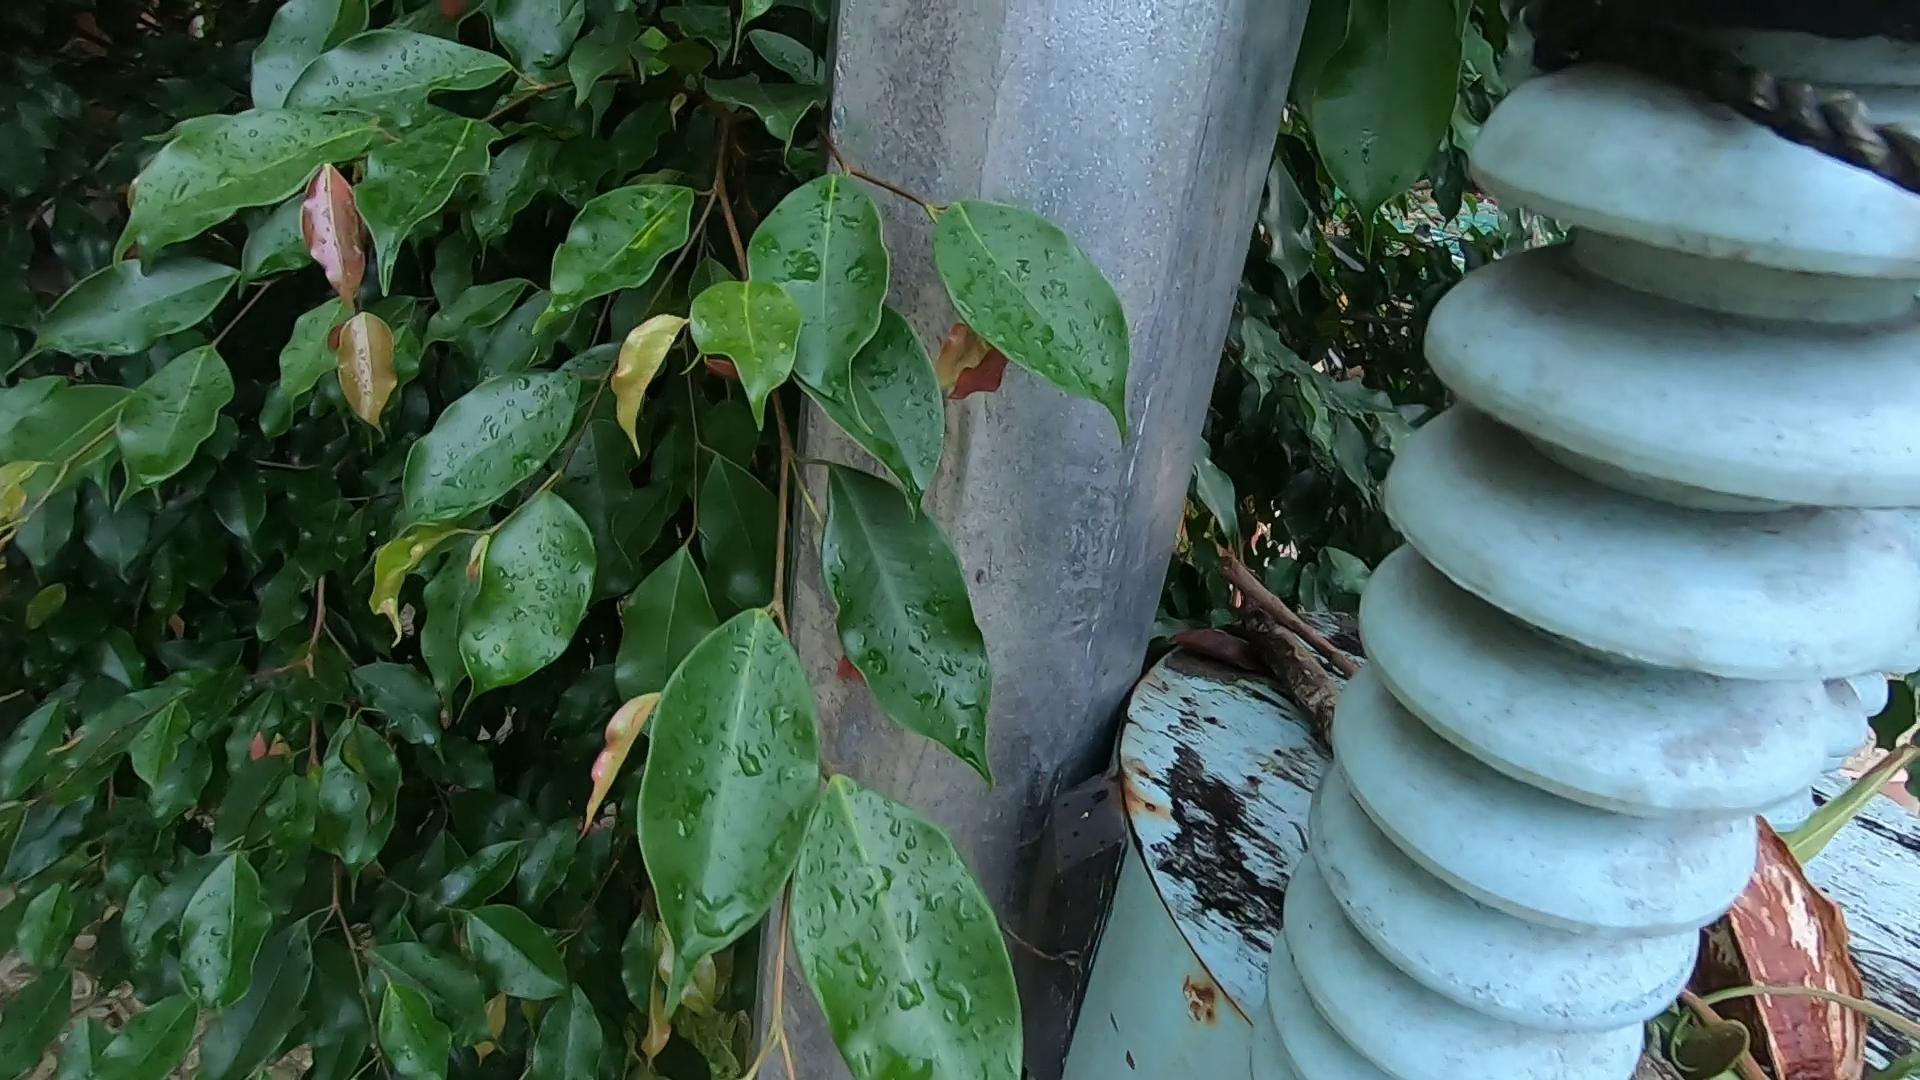branch with leaves: (1197, 605, 1916, 1080)
mahogany fruit: (1676, 793, 1859, 1040)
tree branch: (1220, 551, 1389, 649)
